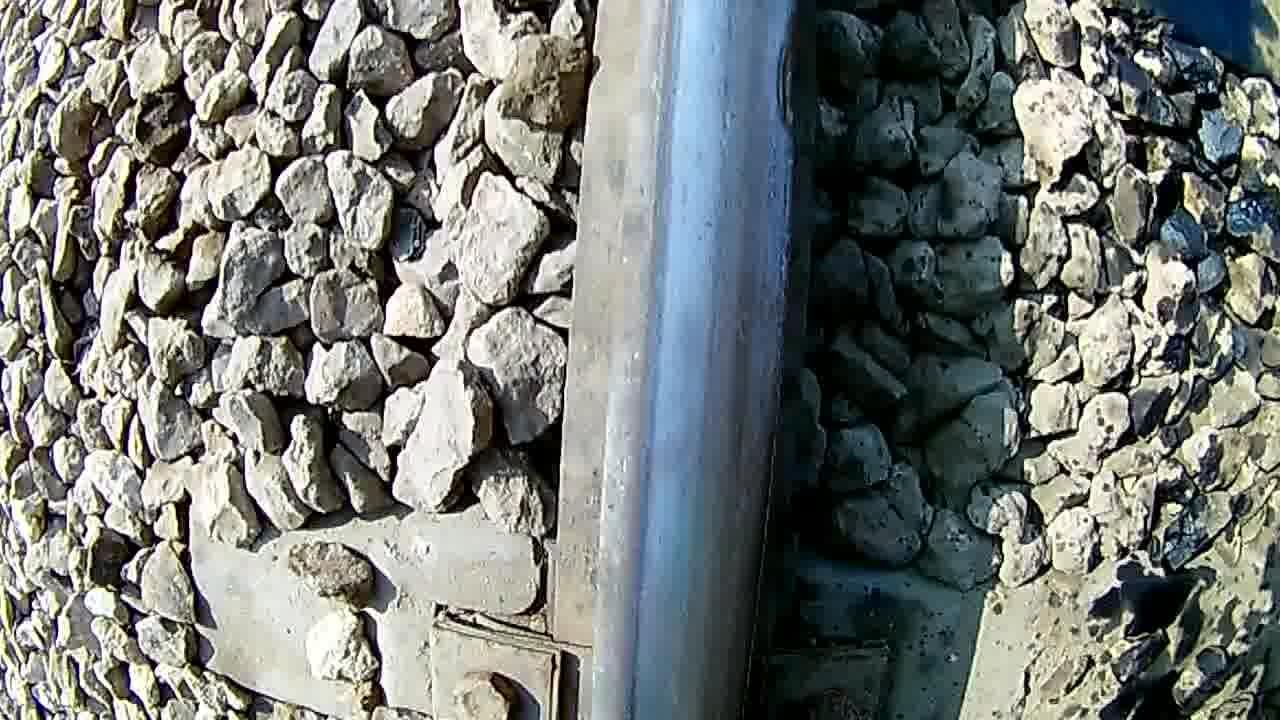crack: (584, 0, 786, 720)
